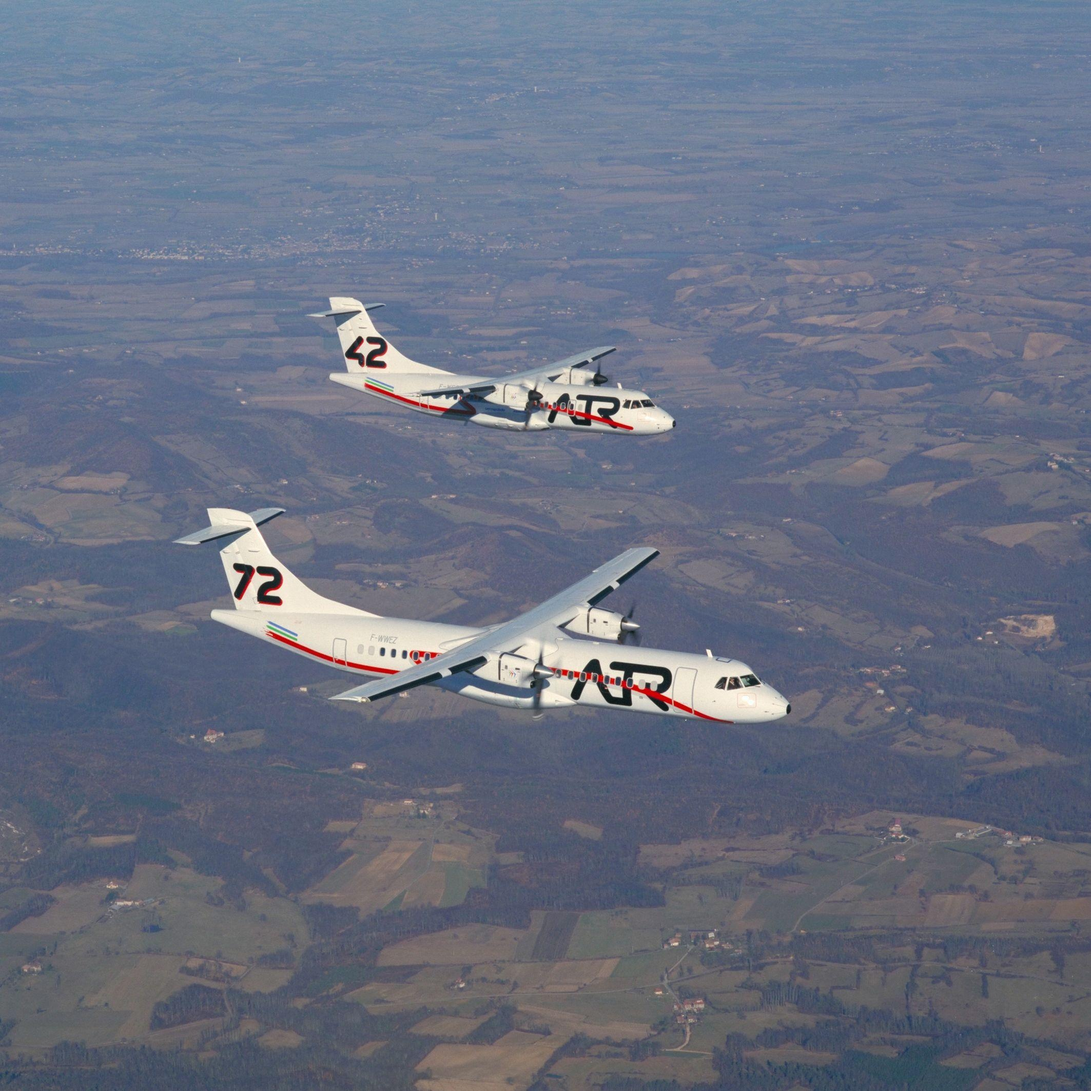aircraft: (176, 504, 793, 720), (313, 298, 673, 435)
